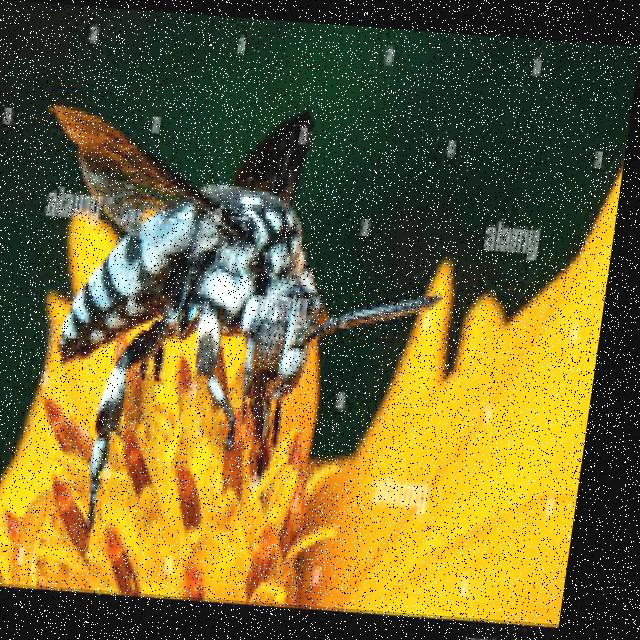Thyreus: (14, 73, 456, 515)
